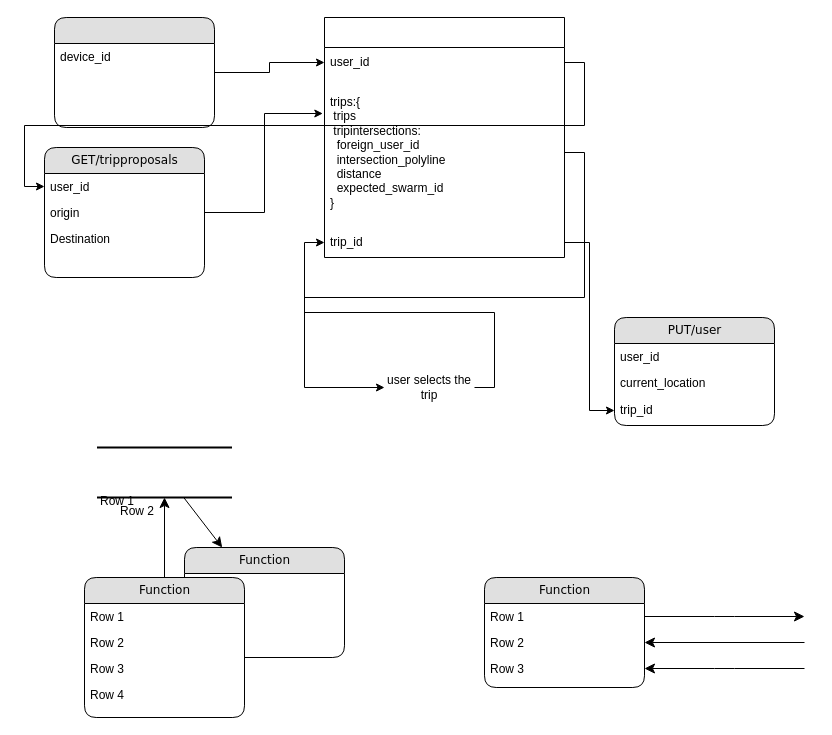
This 832x735 diagram has some shape labels left out. Here are the shapes that lost their labels. From the top down, the box of each, then its label:
(54, 16, 214, 128): POST/user
(324, 16, 564, 258): variables
(96, 446, 232, 498): Object
